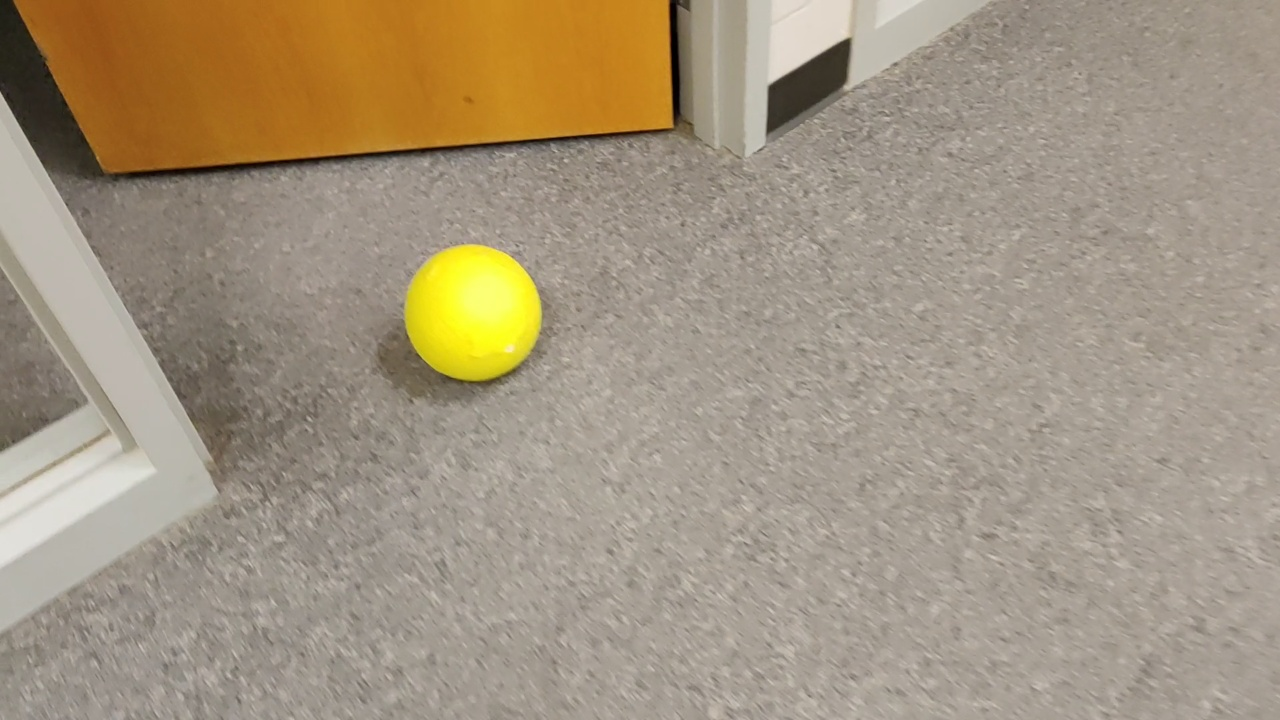Ball: (406, 242, 540, 379)
